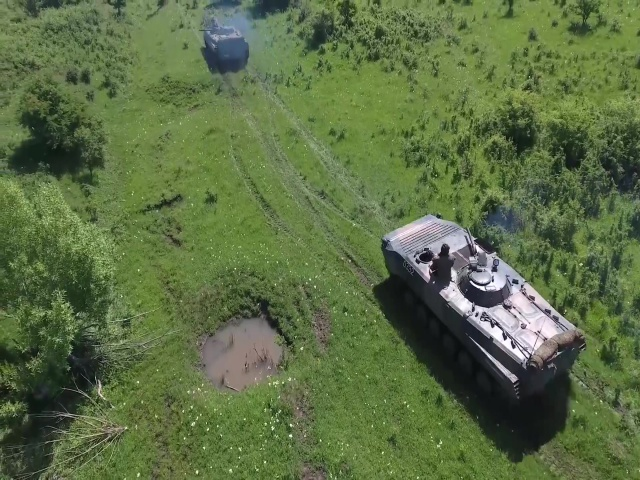vehicle: (381, 212, 588, 406), (201, 22, 250, 67)
